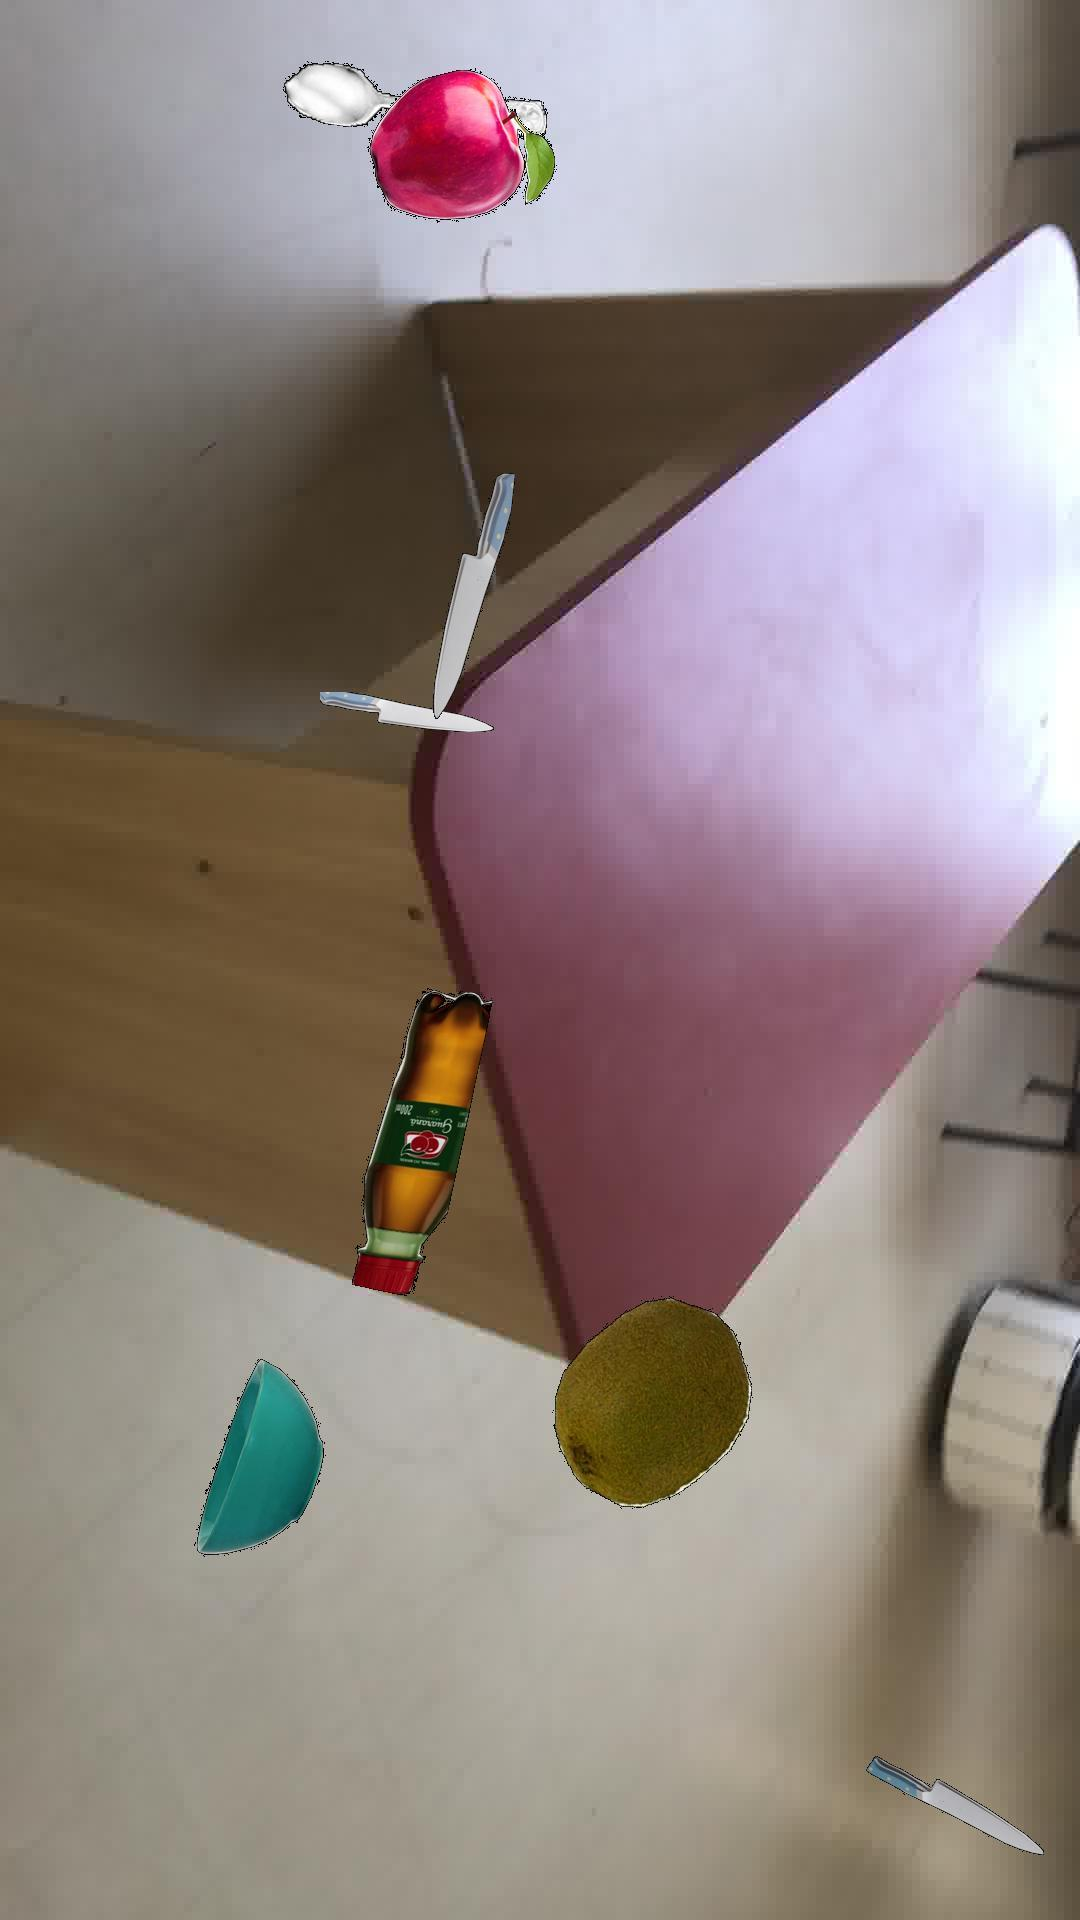apple: (368, 67, 554, 219)
bowl: (195, 1357, 323, 1553)
guarana: (351, 989, 492, 1295)
kiwi: (551, 1295, 750, 1506)
knife: (431, 472, 513, 717), (865, 1754, 1043, 1854), (319, 691, 492, 731)
spoon: (282, 61, 546, 137)
